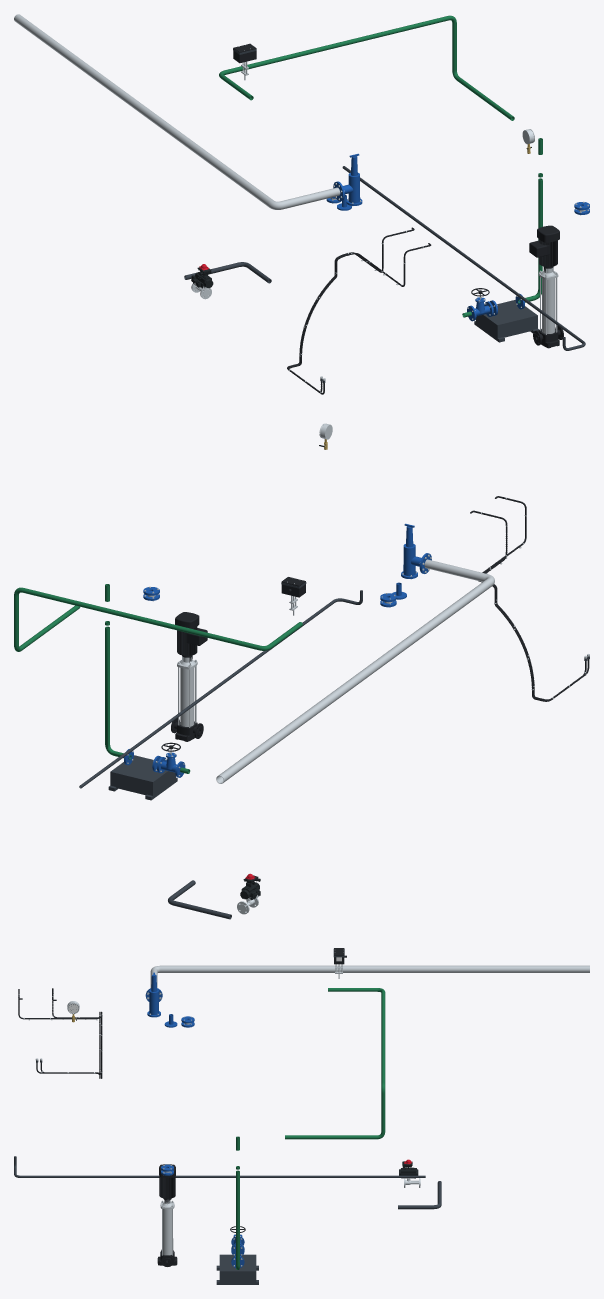
The picture shows the model from 3 angles, top to bottom: view 1: azimuth 30°, elevation 25°; view 2: azimuth 150°, elevation 25°; view 3: azimuth 270°, elevation 25°; orthographic projection. The views are drawn at different scales.
Visible parts, largest first — view 1: safety_vent_1 / steel, to_direct / green, pump_branch_2 / dark, tds_common / dark, pump_1 CAD solid 15, safety_1 / blue, wiring_lp200 / black, pump_1 CAD solid 2, pump_branch_2 / green, wiring_high_level / black, bcv7432 / bcv7432_0.npz; view 2: safety_vent_1 / steel, to_direct / green, pump_branch_2 / dark, tds_common / dark, pump_1 CAD solid 15, pump_branch_2 / green, safety_1 / blue, pump_1 CAD solid 2, wiring_high_level / black, bcv7432 / bcv7432_0.npz; view 3: safety_vent_1 / steel, to_direct / green, tds_common / dark, pump_branch_2 / dark, wiring_lp200 / black, pump_branch_2 / green, safety_1 / blue, pump_1 CAD solid 15.
Boxes of the visible parts, box(x1,y1,x2,y2) form: safety_vent_1 / steel: box(14, 14, 340, 209); to_direct / green: box(219, 15, 514, 120); pump_branch_2 / dark: box(474, 300, 539, 342); tds_common / dark: box(342, 166, 585, 350); pump_1 CAD solid 15: box(529, 225, 559, 267); safety_1 / blue: box(333, 153, 362, 205); wiring_lp200 / black: box(288, 243, 431, 394); pump_1 CAD solid 2: box(542, 278, 555, 333); pump_branch_2 / green: box(462, 138, 542, 317); wiring_high_level / black: box(287, 227, 414, 392); bcv7432 / bcv7432_0.npz: box(191, 264, 213, 299); safety_vent_1 / steel: box(216, 559, 494, 783); to_direct / green: box(14, 587, 288, 651); pump_branch_2 / dark: box(108, 755, 177, 800); tds_common / dark: box(79, 590, 362, 788); pump_1 CAD solid 15: box(175, 612, 207, 656); pump_branch_2 / green: box(105, 584, 190, 773); safety_1 / blue: box(401, 523, 431, 578); pump_1 CAD solid 2: box(180, 667, 194, 726); wiring_high_level / black: box(470, 510, 586, 701); bcv7432 / bcv7432_0.npz: box(237, 873, 260, 914); safety_vent_1 / steel: box(150, 965, 589, 987); to_direct / green: box(285, 988, 385, 1139); tds_common / dark: box(14, 1156, 425, 1177); pump_branch_2 / dark: box(216, 1254, 258, 1284); wiring_lp200 / black: box(18, 989, 100, 1078); pump_branch_2 / green: box(236, 1136, 239, 1269); safety_1 / blue: box(145, 972, 162, 1017); pump_1 CAD solid 15: box(159, 1164, 175, 1199).
Size of the model in its own units: 3.57 by 2.86 by 6.14.
